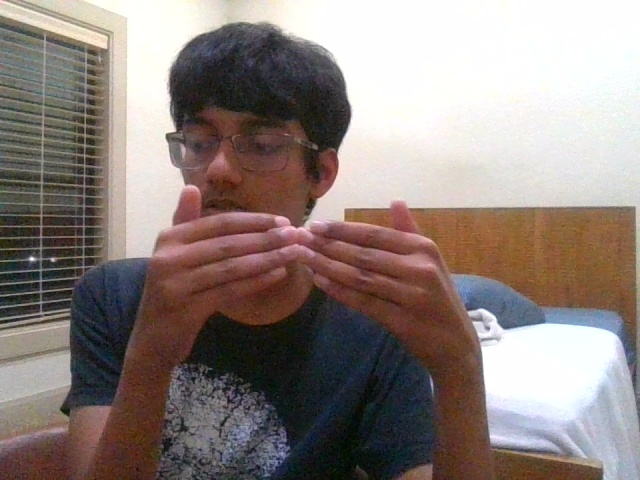thanks: (143, 182, 467, 360)
